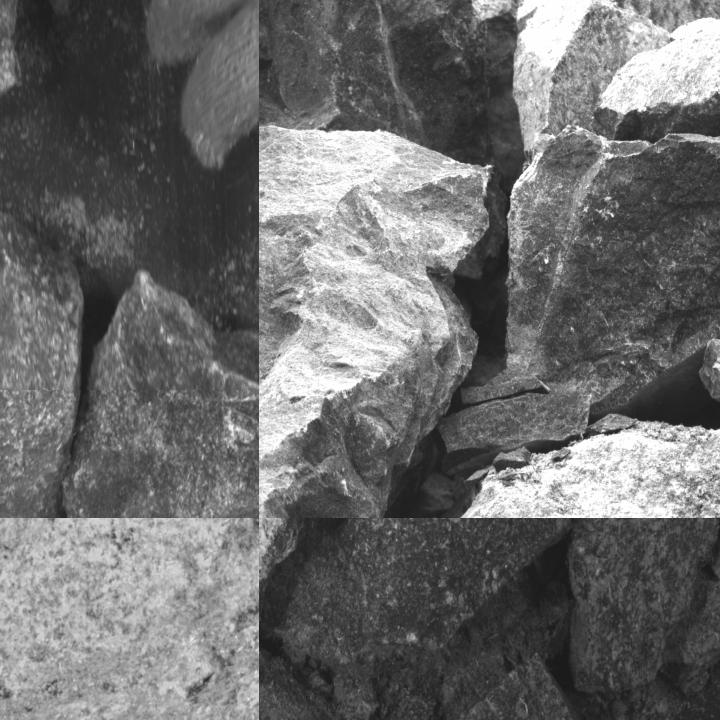stone: (259, 125, 496, 517), (506, 125, 719, 412), (63, 267, 258, 517), (259, 518, 574, 667), (259, 0, 498, 185), (325, 421, 719, 517), (0, 169, 82, 517), (588, 0, 719, 212), (569, 518, 719, 694), (511, 0, 670, 163), (327, 652, 599, 719), (259, 643, 356, 719), (658, 578, 719, 695), (610, 0, 719, 31), (334, 659, 381, 719)
